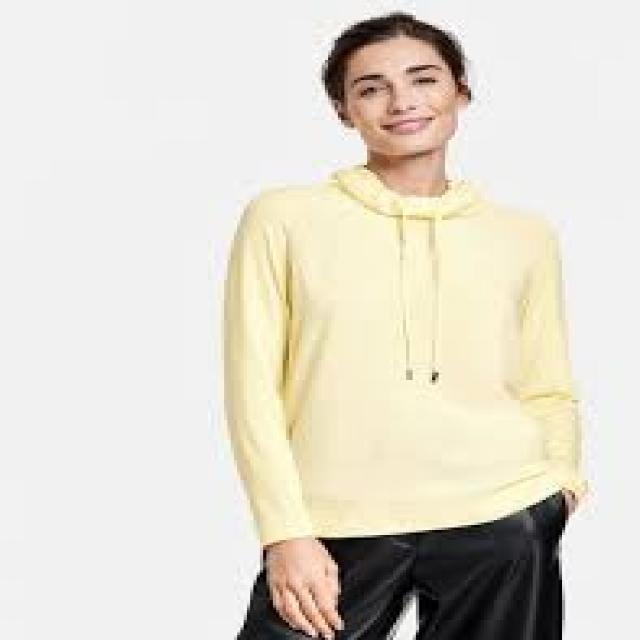plain: (221, 156, 587, 534)
